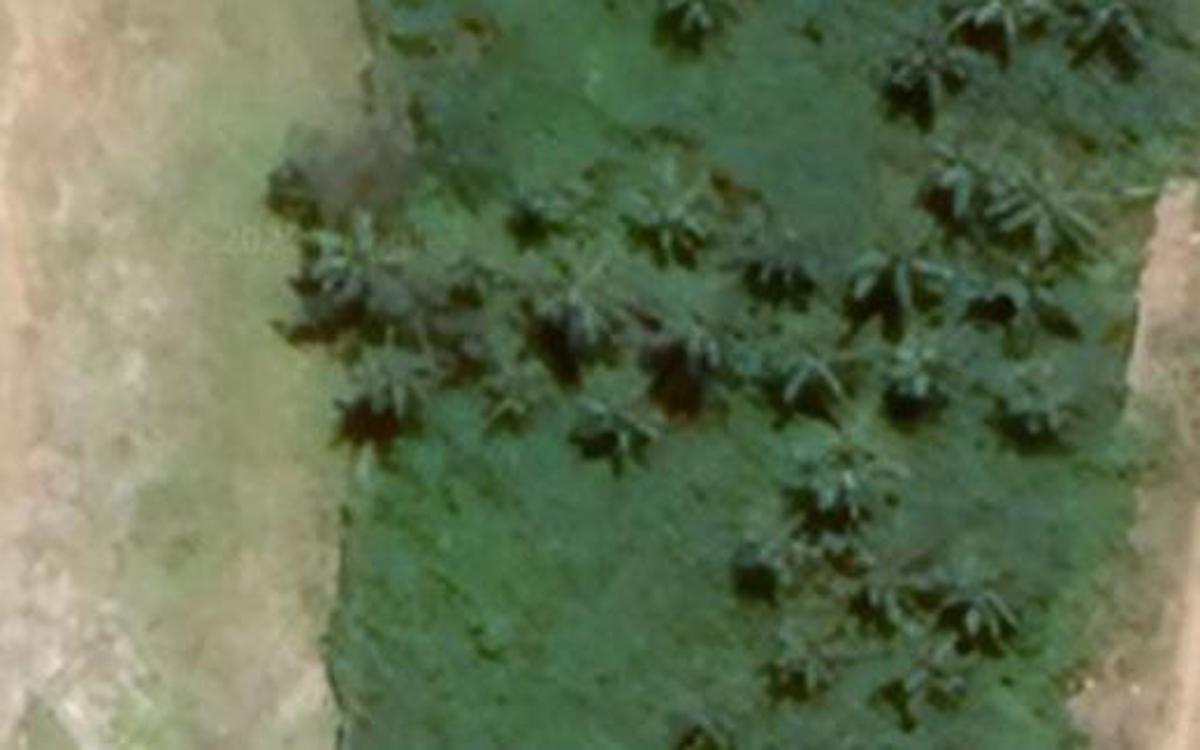coconut: (965, 234, 1076, 350), (991, 148, 1104, 257), (308, 211, 406, 313), (991, 362, 1088, 462), (538, 257, 633, 355), (851, 227, 947, 320), (840, 564, 940, 652), (647, 313, 740, 406), (424, 241, 512, 339), (947, 566, 1049, 650), (796, 441, 895, 524), (573, 378, 661, 471), (622, 183, 714, 271), (919, 132, 1007, 222), (875, 32, 965, 120), (884, 659, 972, 745), (731, 527, 814, 615), (338, 348, 427, 429), (742, 227, 828, 308), (508, 171, 589, 253), (775, 320, 849, 406), (478, 364, 557, 443), (761, 629, 842, 705), (879, 341, 960, 417)
